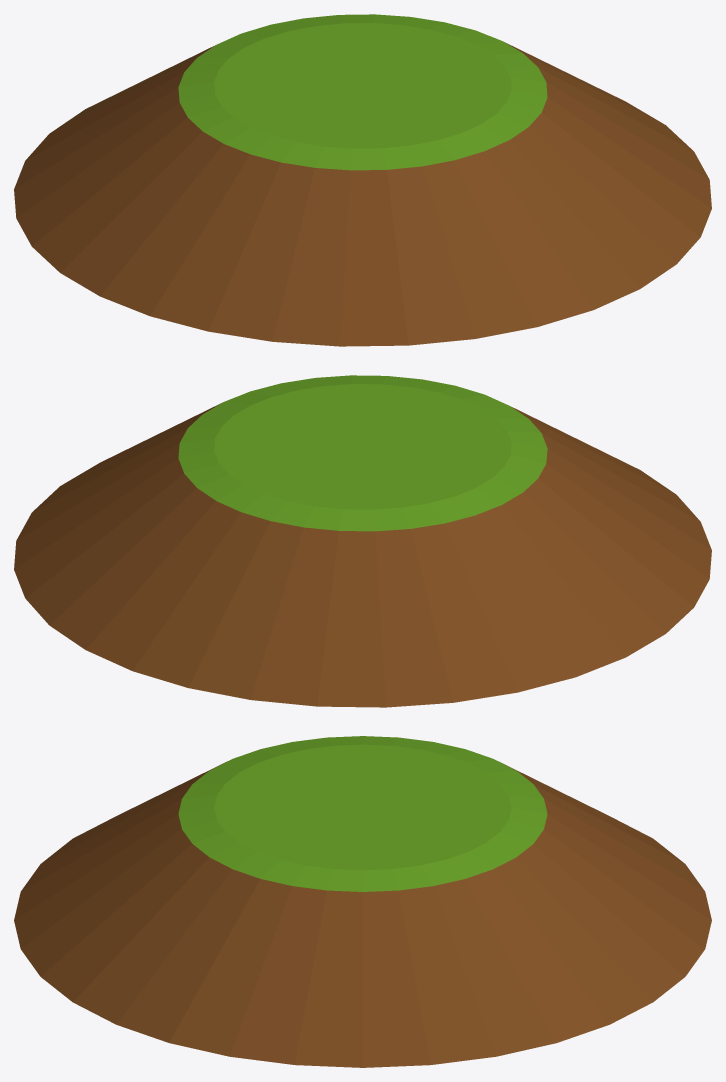
The model's file is Hill 1.fbx.
3 views of the same model, one above another, from view 1: azimuth 30°, elevation 25°; view 2: azimuth 150°, elevation 25°; view 3: azimuth 270°, elevation 25° (orthographic).
Visible parts, largest first — view 1: Cylinder; view 2: Cylinder; view 3: Cylinder.
Boxes of the visible parts, left/top/right/bottom form: Cylinder: left=14, top=14, right=711, bottom=346; Cylinder: left=14, top=375, right=711, bottom=707; Cylinder: left=14, top=736, right=711, bottom=1067.
Size of the model in its own units: 560 by 100 by 560.
